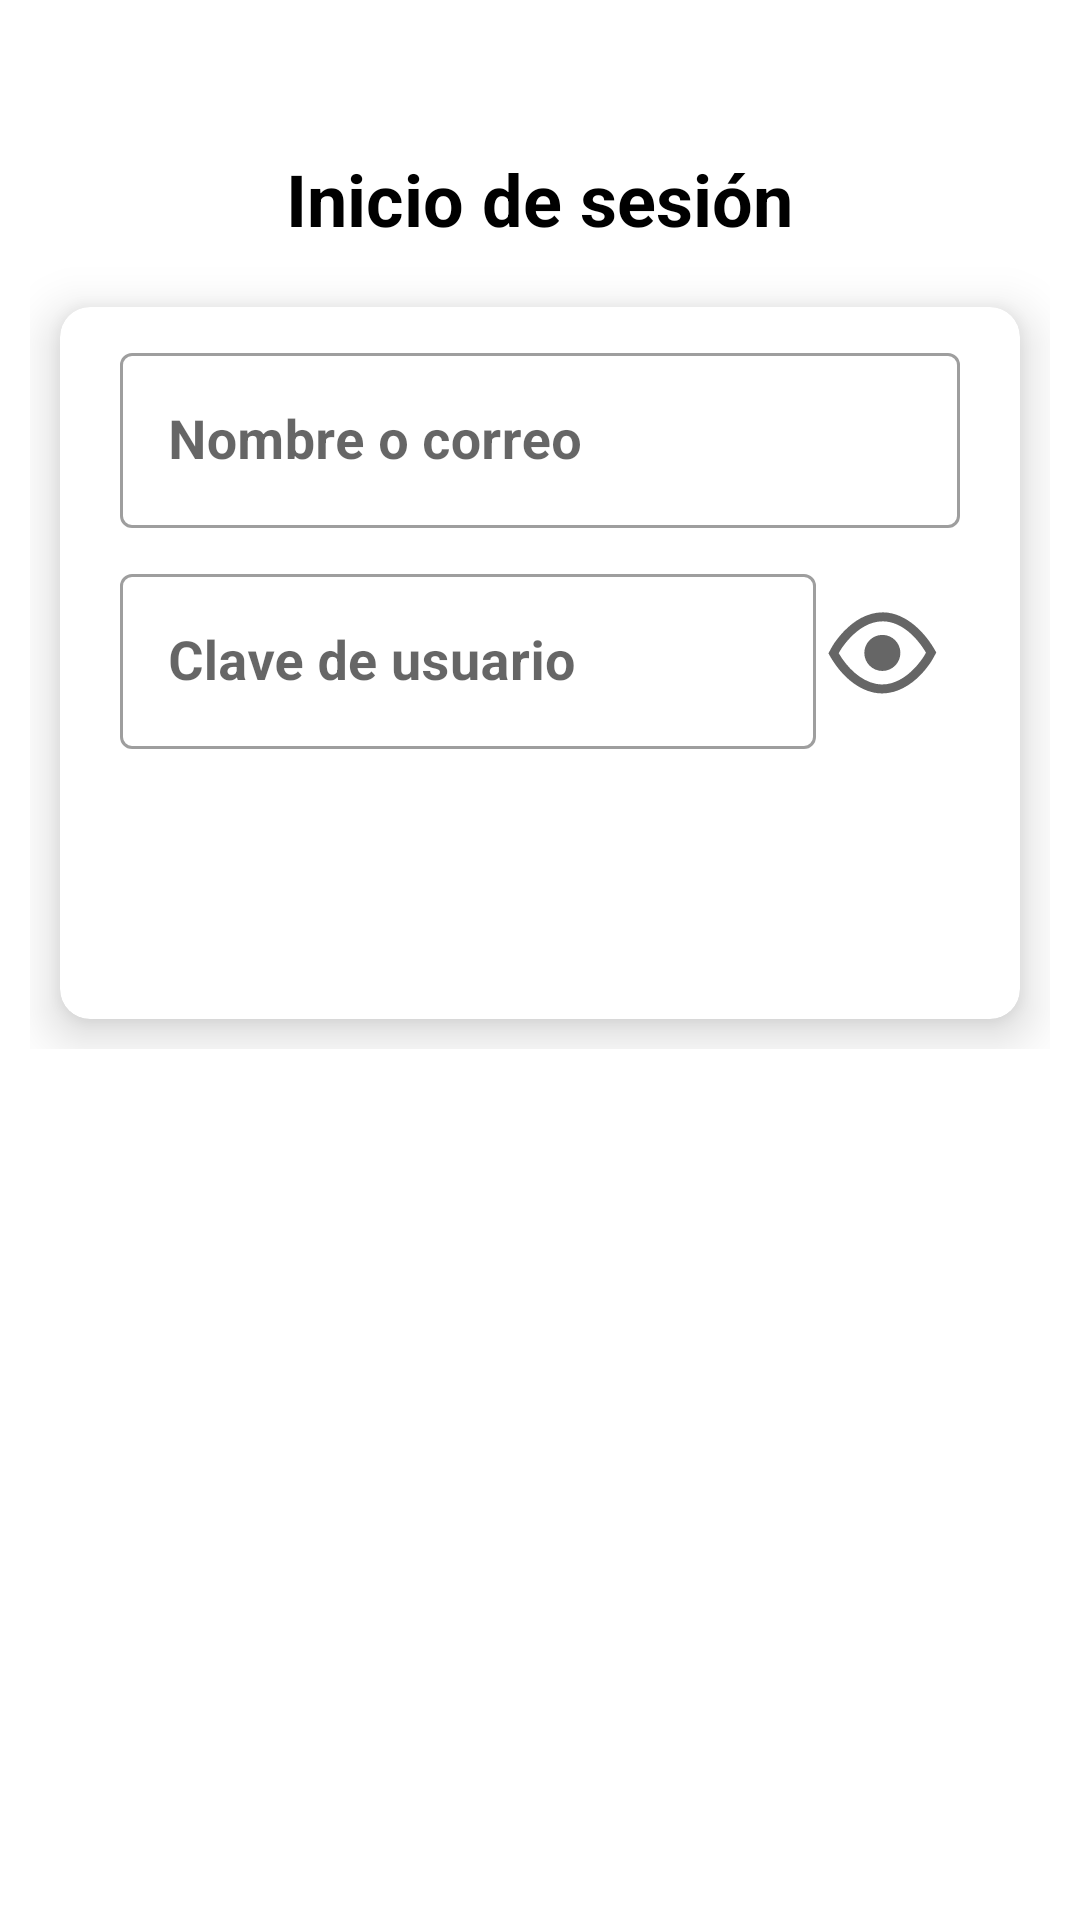

Where icons sit on this 1080px x 1920px app screen, as (x1=x1, y1=y1, x2=x2, y2=y2):
Ver clave: (x1=828, y1=612, x2=936, y2=694)
